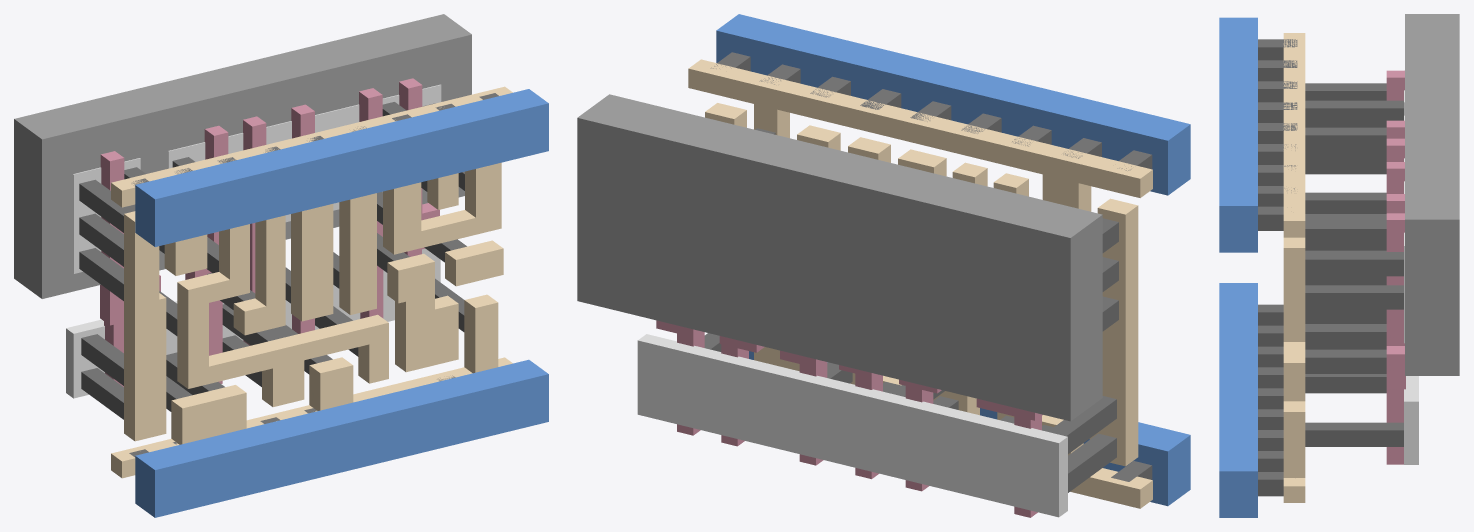
Rendered from sky130_fd_sc_hd__a2111o_1.gds.gltf.
3 renders of one model, left to right at view 1: azimuth 30°, elevation 25°; view 2: azimuth 150°, elevation 25°; view 3: azimuth 270°, elevation 25°, orthographic. The views are drawn at different scales.
Parts seen in each view (by area): view 1: sky130_fd_sc_hd__a2111o_1_li1, sky130_fd_sc_hd__a2111o_1_met1, sky130_fd_sc_hd__a2111o_1_nwell, sky130_fd_sc_hd__a2111o_1_licon, sky130_fd_sc_hd__a2111o_1_poly, sky130_fd_sc_hd__a2111o_1_diff, sky130_fd_sc_hd__a2111o_1_mcon; view 2: sky130_fd_sc_hd__a2111o_1_nwell, sky130_fd_sc_hd__a2111o_1_diff, sky130_fd_sc_hd__a2111o_1_li1, sky130_fd_sc_hd__a2111o_1_met1, sky130_fd_sc_hd__a2111o_1_licon, sky130_fd_sc_hd__a2111o_1_poly, sky130_fd_sc_hd__a2111o_1_mcon; view 3: sky130_fd_sc_hd__a2111o_1_licon, sky130_fd_sc_hd__a2111o_1_nwell, sky130_fd_sc_hd__a2111o_1_met1, sky130_fd_sc_hd__a2111o_1_li1, sky130_fd_sc_hd__a2111o_1_mcon, sky130_fd_sc_hd__a2111o_1_poly, sky130_fd_sc_hd__a2111o_1_diff.
Boxes of the visible parts, box(x1,y1,x2,y2) form: sky130_fd_sc_hd__a2111o_1_li1: box(111, 86, 512, 478); sky130_fd_sc_hd__a2111o_1_met1: box(135, 89, 548, 517); sky130_fd_sc_hd__a2111o_1_nwell: box(14, 14, 471, 298); sky130_fd_sc_hd__a2111o_1_licon: box(79, 102, 466, 419); sky130_fd_sc_hd__a2111o_1_poly: box(100, 78, 439, 386); sky130_fd_sc_hd__a2111o_1_diff: box(66, 84, 441, 398); sky130_fd_sc_hd__a2111o_1_mcon: box(129, 93, 498, 457); sky130_fd_sc_hd__a2111o_1_nwell: box(577, 94, 1102, 421); sky130_fd_sc_hd__a2111o_1_diff: box(637, 334, 1067, 517); sky130_fd_sc_hd__a2111o_1_li1: box(688, 59, 1152, 508); sky130_fd_sc_hd__a2111o_1_met1: box(716, 14, 1190, 506); sky130_fd_sc_hd__a2111o_1_licon: box(704, 128, 1118, 492); sky130_fd_sc_hd__a2111o_1_poly: box(656, 320, 1042, 517); sky130_fd_sc_hd__a2111o_1_mcon: box(710, 52, 1152, 481); sky130_fd_sc_hd__a2111o_1_licon: box(1305, 83, 1403, 446); sky130_fd_sc_hd__a2111o_1_nwell: box(1405, 14, 1459, 375); sky130_fd_sc_hd__a2111o_1_met1: box(1219, 17, 1257, 517); sky130_fd_sc_hd__a2111o_1_li1: box(1283, 33, 1305, 502); sky130_fd_sc_hd__a2111o_1_mcon: box(1258, 39, 1297, 496); sky130_fd_sc_hd__a2111o_1_poly: box(1386, 70, 1405, 464); sky130_fd_sc_hd__a2111o_1_diff: box(1404, 70, 1418, 464).
Bounding box in the file's own units: 4.52 × 3.2 × 2.24.
